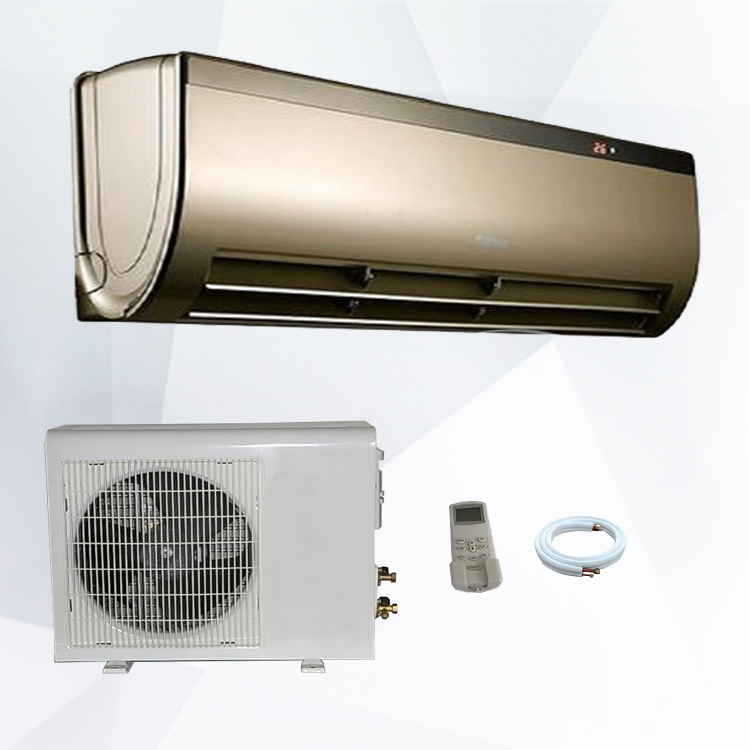ac: (71, 46, 704, 355)
